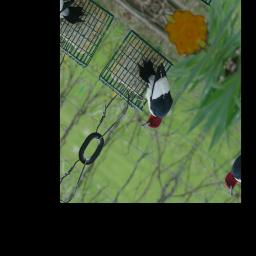Woodpecker: (111, 49, 187, 136)
